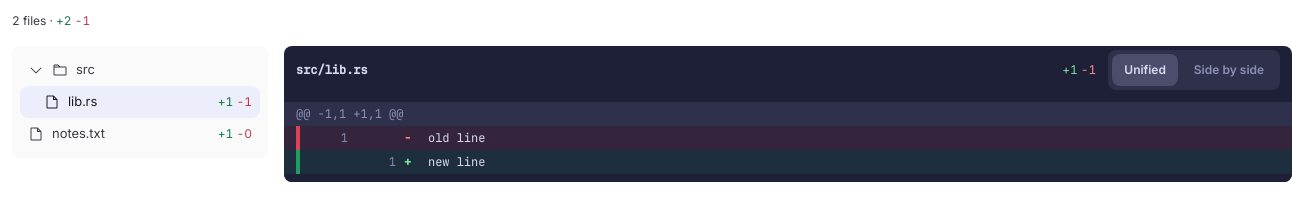
Test case: a diff read in two columns › moves the lines when a name is chosen, and marks the row it moved for
Click the button "notes.txt +1 -0": (140, 134) [20, 118, 260, 150]
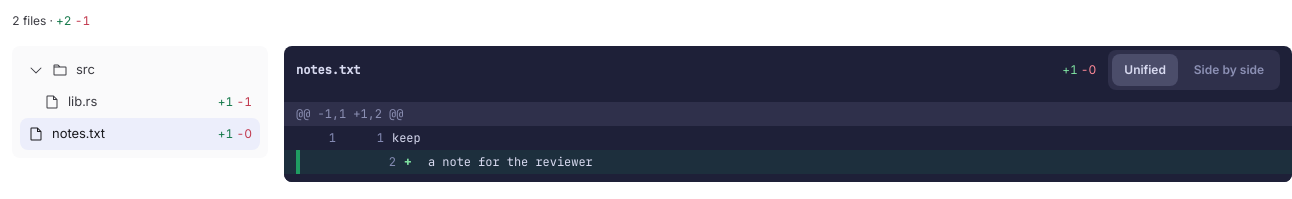
Now the text with test id "diff-path" reads "notes.txt", box [296, 62, 360, 78]
Now the text "a note for the reviewer" is shown, box [428, 154, 593, 170]
